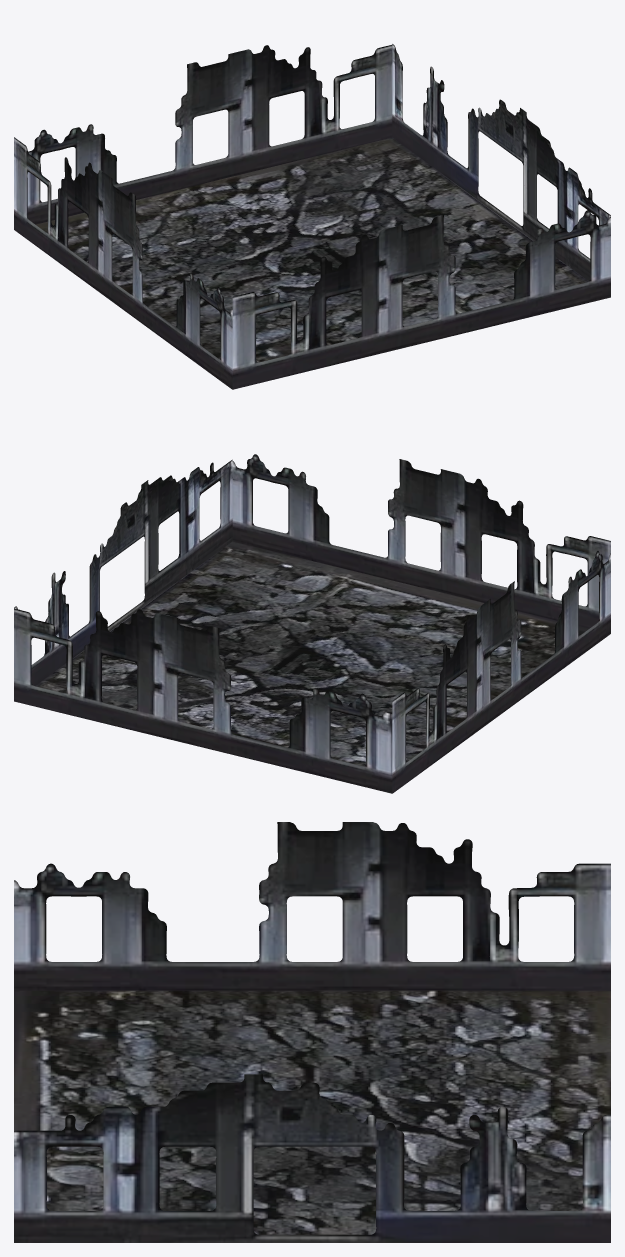
The model's file is city8storyc_dam_hdtex.glb.
The picture shows the model from 3 angles, top to bottom: view 1: azimuth 30°, elevation 25°; view 2: azimuth 150°, elevation 25°; view 3: azimuth 270°, elevation 25°; orthographic projection. The views are drawn at different scales.
Parts seen in each view (by area): view 1: City2StoryA; view 2: City2StoryA; view 3: City2StoryA.
Part boxes in pixels (x1,y1,x2,y2): City2StoryA: [14, 44, 610, 389]; City2StoryA: [14, 454, 610, 793]; City2StoryA: [14, 822, 610, 1242].
Bounding box in the file's own units: 17.76 × 5.53 × 17.76.
1 material, 1 textured.
